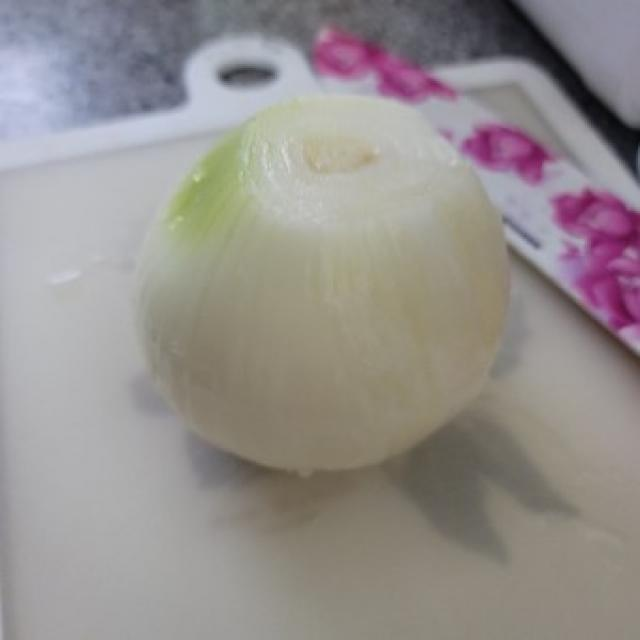Onion: (103, 72, 539, 504)
